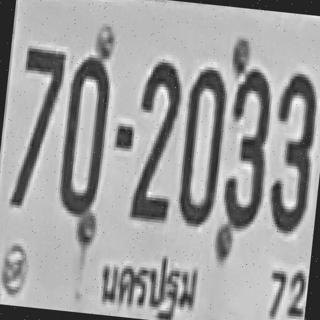N00: (46, 36, 120, 226), (170, 52, 237, 239)
N02: (122, 39, 194, 236)
N03: (214, 54, 283, 240), (262, 64, 320, 238)
N07: (0, 34, 72, 220)
P28: (86, 238, 222, 320)
